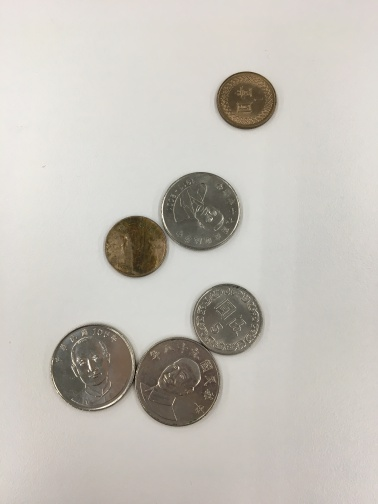1 dollar: (206, 67, 285, 142), (98, 210, 170, 284)
10 dollar: (124, 333, 233, 441), (38, 312, 139, 421), (156, 167, 246, 253)
5 dollar: (189, 279, 275, 360)
